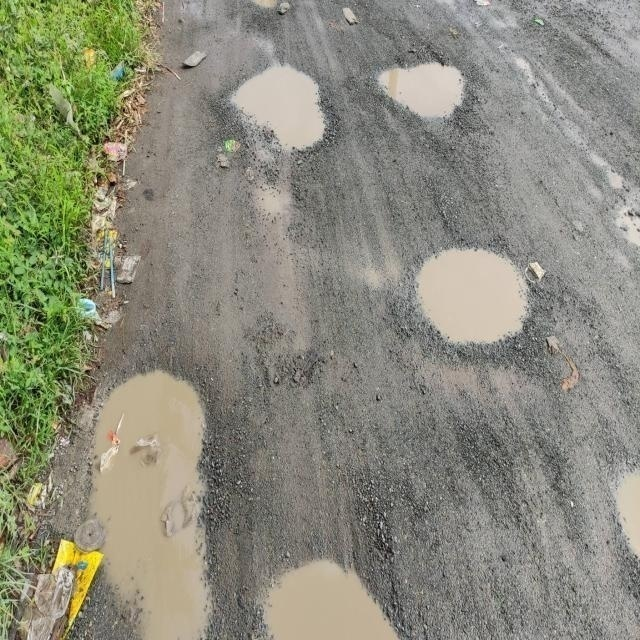pothole: (71, 325, 253, 640), (400, 206, 552, 380), (255, 533, 410, 640), (215, 42, 342, 172), (366, 49, 490, 144)
